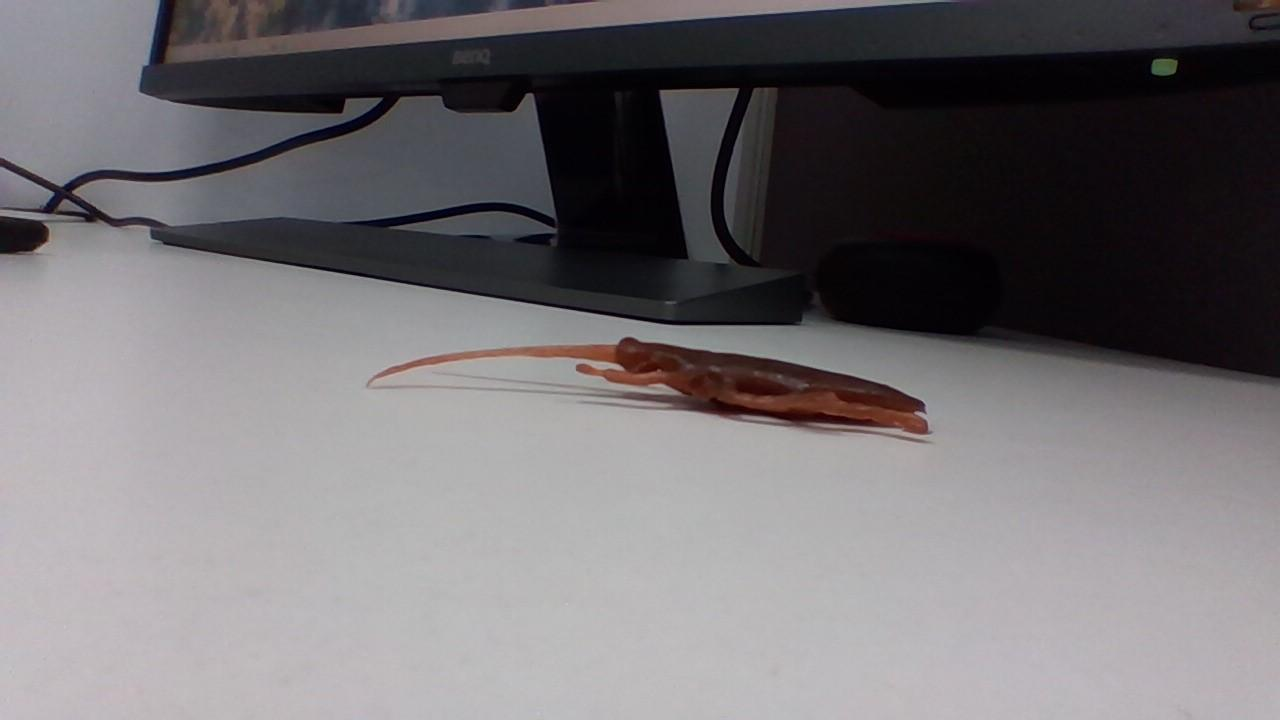cockroach: (356, 322, 930, 434)
